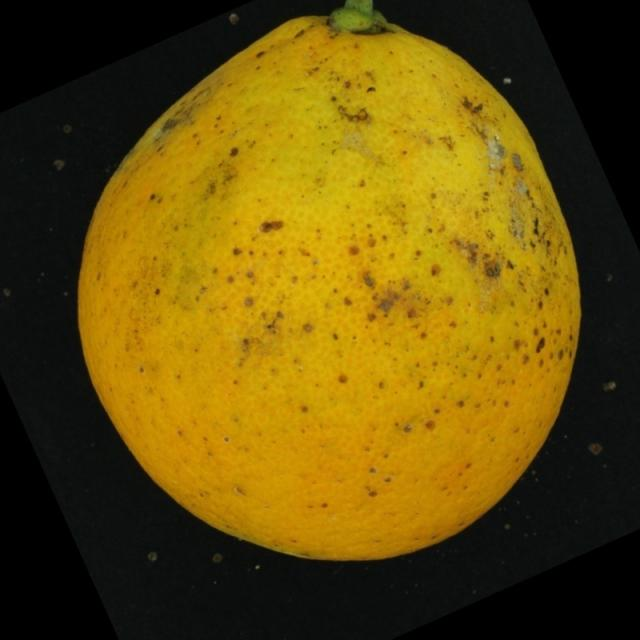grenning: (54, 14, 595, 575)
